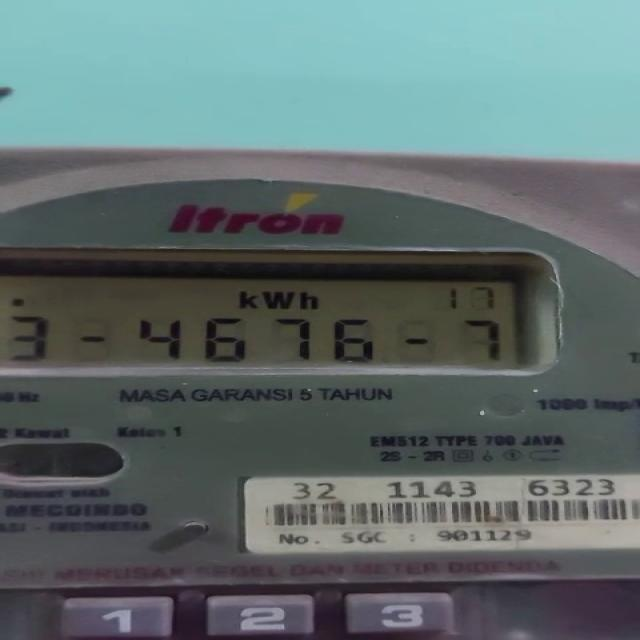LCD: (5, 243, 567, 378)
